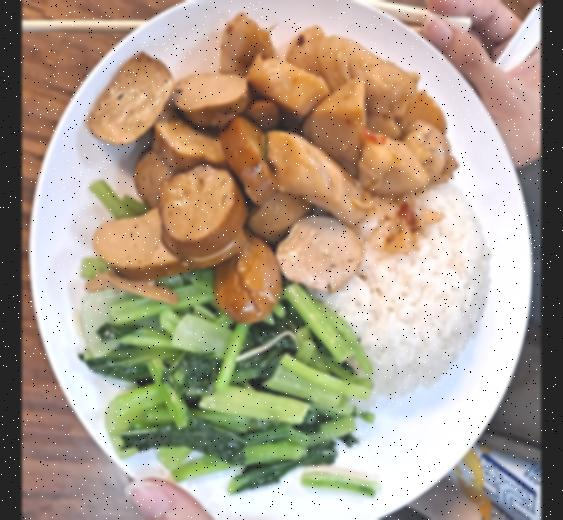plate: (21, 0, 528, 520)
side dish: (90, 57, 370, 317), (90, 266, 380, 496)
spicy chicken: (232, 11, 458, 224)
